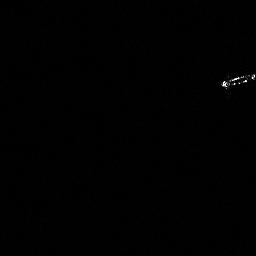ship: (219, 70, 256, 92)
